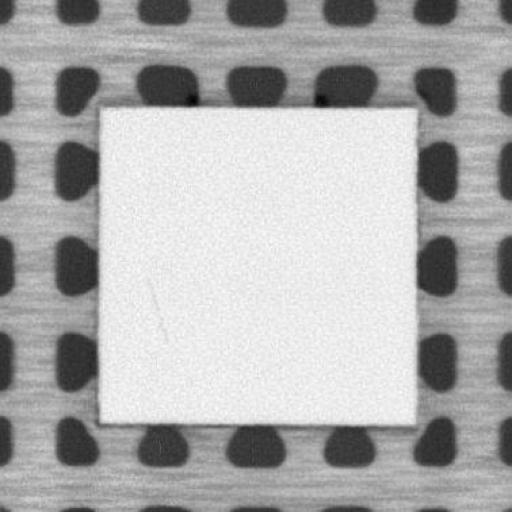DIE_CRACK: (138, 274, 169, 344)
